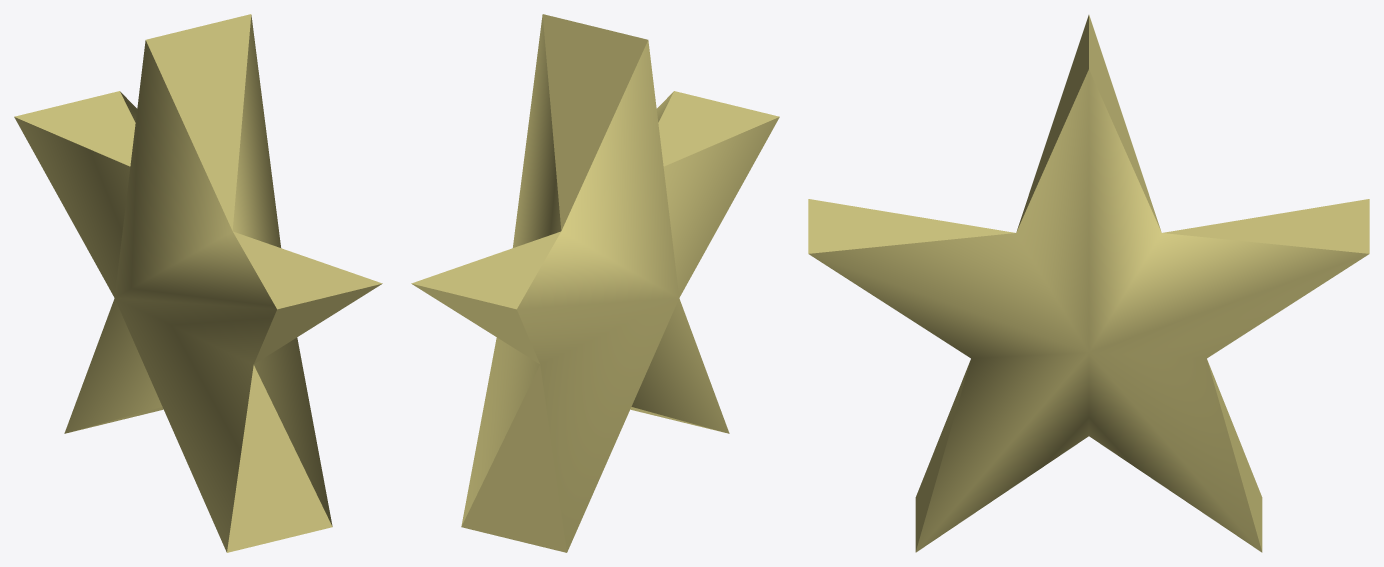
File: star.obj
3 renders of one model, left to right at view 1: azimuth 30°, elevation 25°; view 2: azimuth 150°, elevation 25°; view 3: azimuth 270°, elevation 25°, orthographic. The views are drawn at different scales.
Parts seen in each view (by area): view 1: pCylinder1; view 2: pCylinder1; view 3: pCylinder1.
Part boxes in pixels (bbox=[...]): pCylinder1: bbox=[14, 14, 382, 552]; pCylinder1: bbox=[411, 14, 779, 552]; pCylinder1: bbox=[808, 15, 1369, 552].
Bounding box in the file's own units: 0.7 × 1.81 × 1.9.
